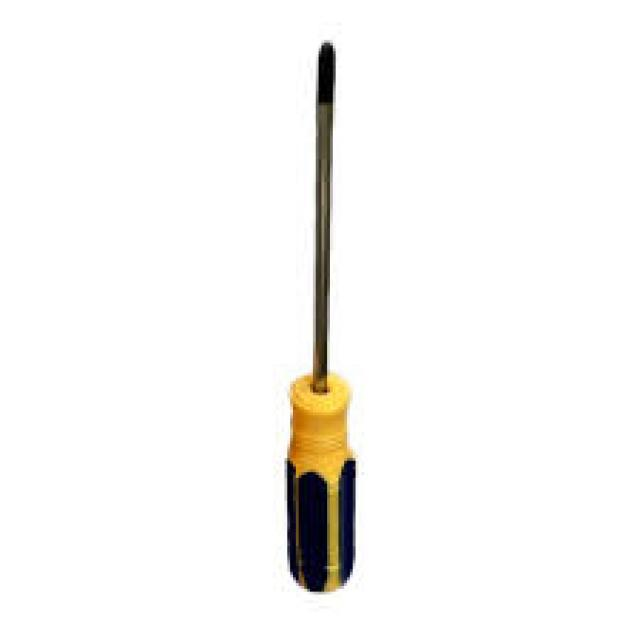screwdriver: (284, 38, 358, 599)
